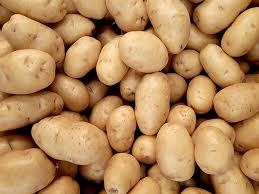potato: (21, 116, 122, 161), (3, 51, 59, 91), (157, 121, 194, 179), (201, 40, 244, 88), (198, 127, 239, 175), (136, 73, 170, 129), (119, 31, 168, 66), (52, 71, 94, 110), (103, 150, 139, 192), (65, 33, 99, 73), (110, 106, 138, 148), (192, 77, 218, 113)
